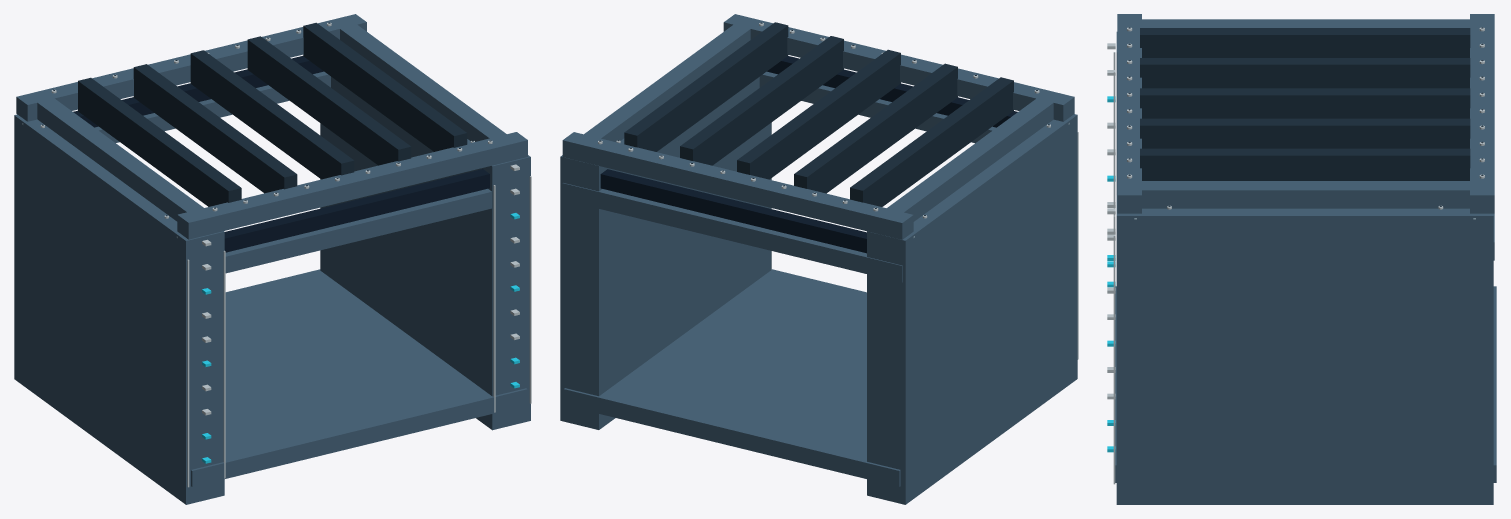
Rendered from 14_L74_PrecisionProjectionScannerFrame.fbx.
The picture shows the model from 3 angles, left to right: view 1: azimuth 30°, elevation 25°; view 2: azimuth 150°, elevation 25°; view 3: azimuth 270°, elevation 25°; orthographic projection. The views are drawn at different scales.
Parts seen in each view (by area): view 1: PrecisionProjectionScannerFrame; view 2: PrecisionProjectionScannerFrame; view 3: PrecisionProjectionScannerFrame.
Boxes of the visible parts, x1,y1,x2,y2 form: PrecisionProjectionScannerFrame: [14, 14, 531, 504]; PrecisionProjectionScannerFrame: [560, 14, 1078, 504]; PrecisionProjectionScannerFrame: [1107, 14, 1496, 504].
Bounding box in the file's own units: 582 × 472 × 518.
